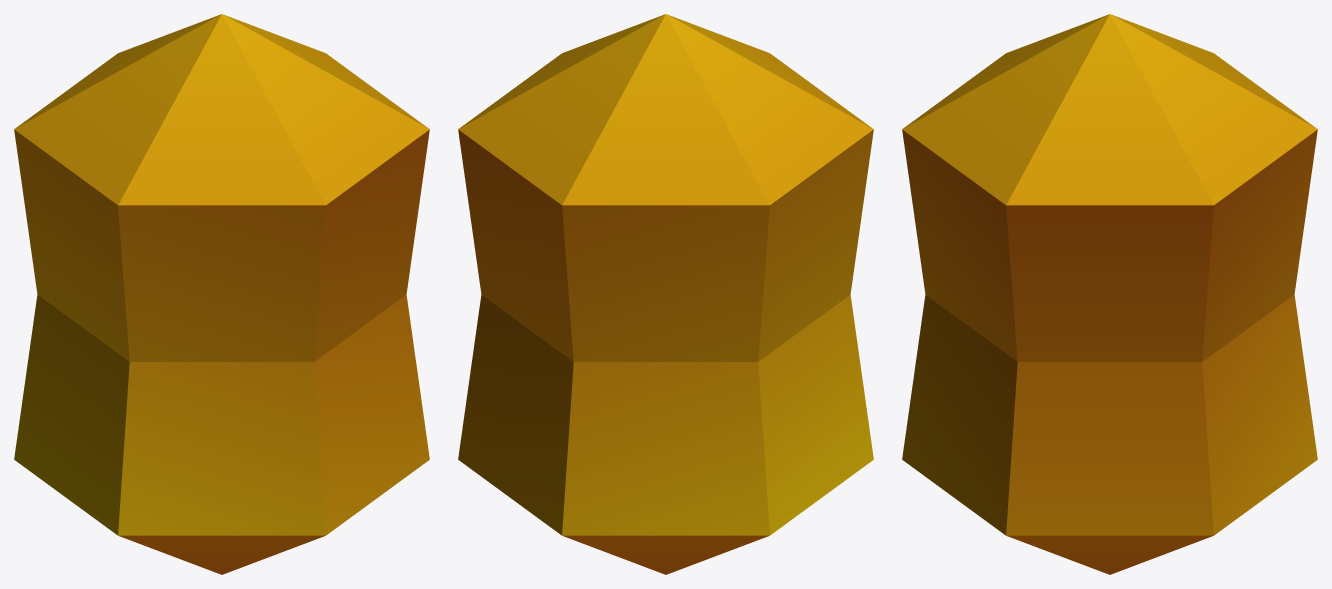
The model's file is Topaz_02.glb.
3 views of the same model, side by side, from view 1: azimuth 30°, elevation 25°; view 2: azimuth 150°, elevation 25°; view 3: azimuth 270°, elevation 25° (orthographic).
Visible parts, largest first — view 1: Topaz_02; view 2: Topaz_02; view 3: Topaz_02.
Part boxes in pixels (x1,y1,x2,y2): Topaz_02: [14, 14, 429, 574]; Topaz_02: [458, 14, 873, 574]; Topaz_02: [902, 14, 1317, 574].
Bounding box in the file's own units: 0.2347 × 0.4035 × 0.271.
1 material, 1 textured.
